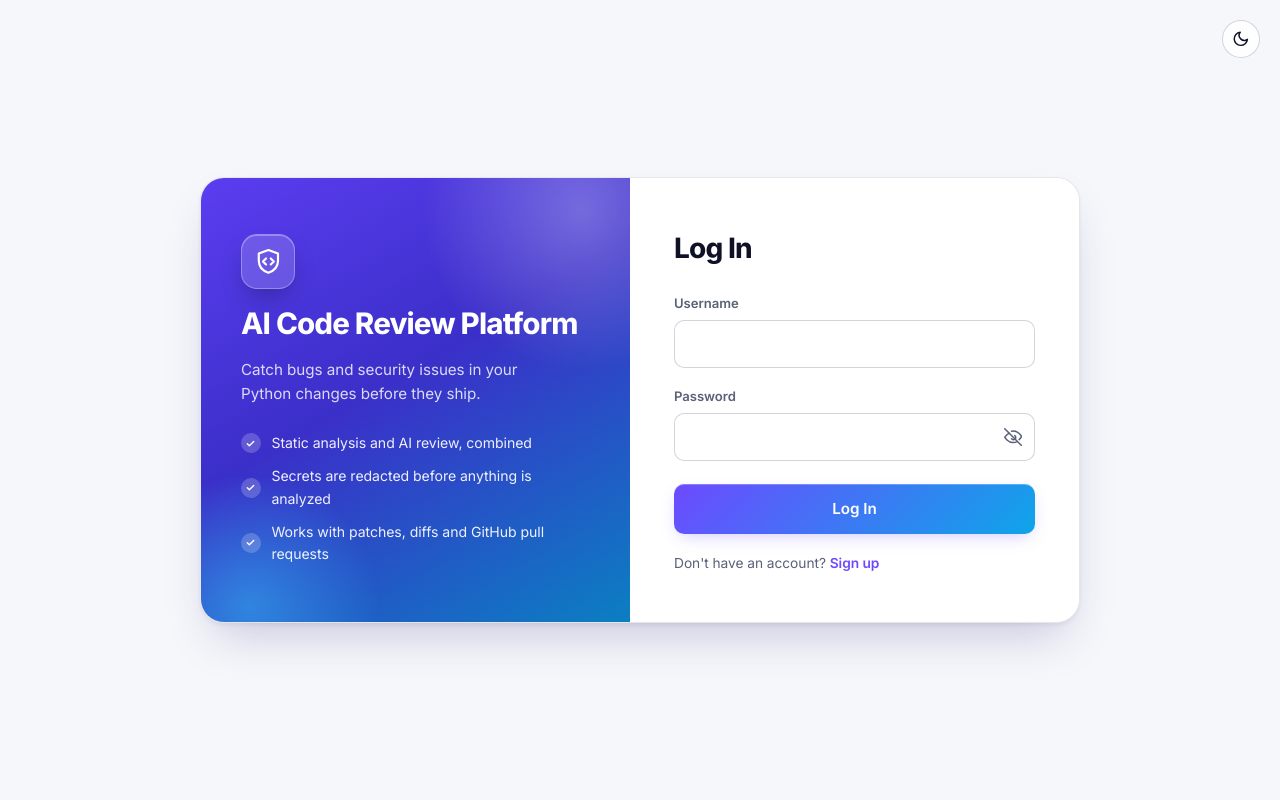
it: Login page › logs in, stores the session and lands on the dashboard
Type "alice" into the field labelled "Username" at (854, 344), box [674,320,1035,368]
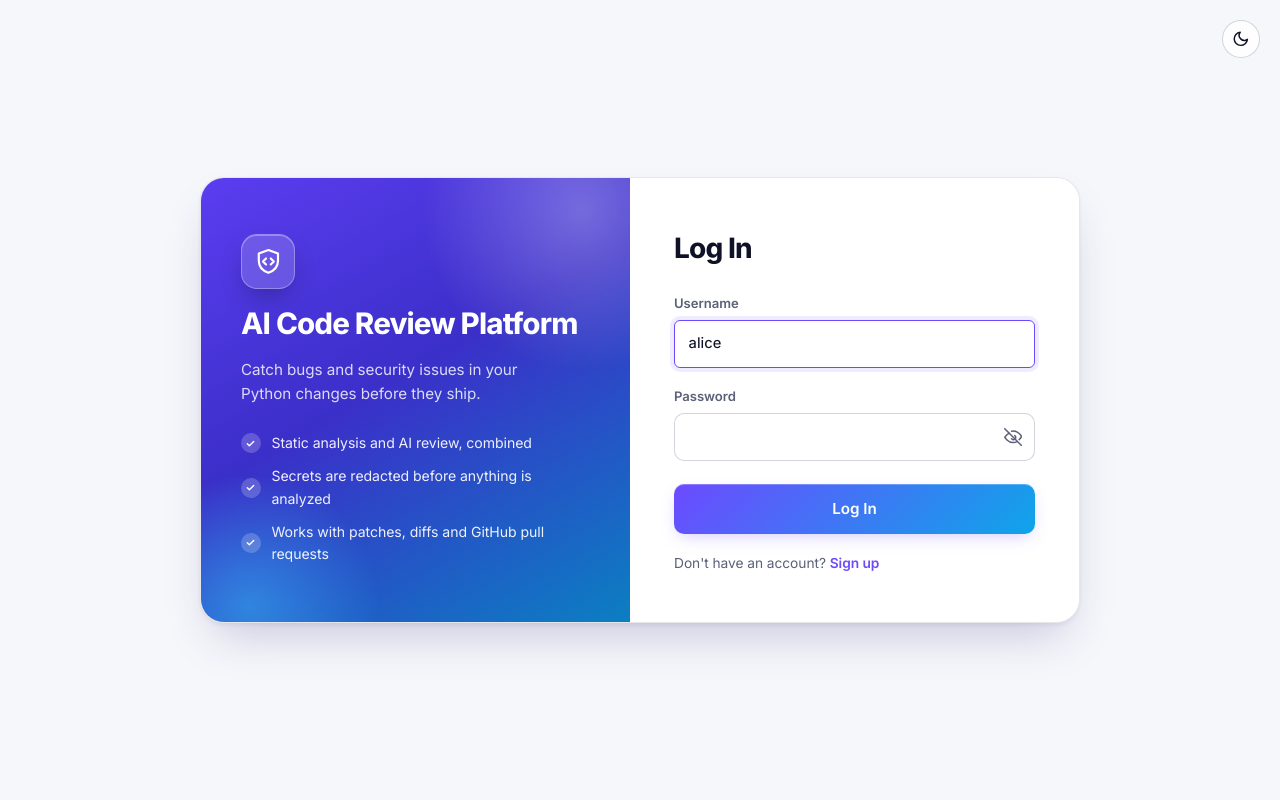
Type "password123" into the password field labelled "Password" at (854, 437), box [674,413,1035,461]
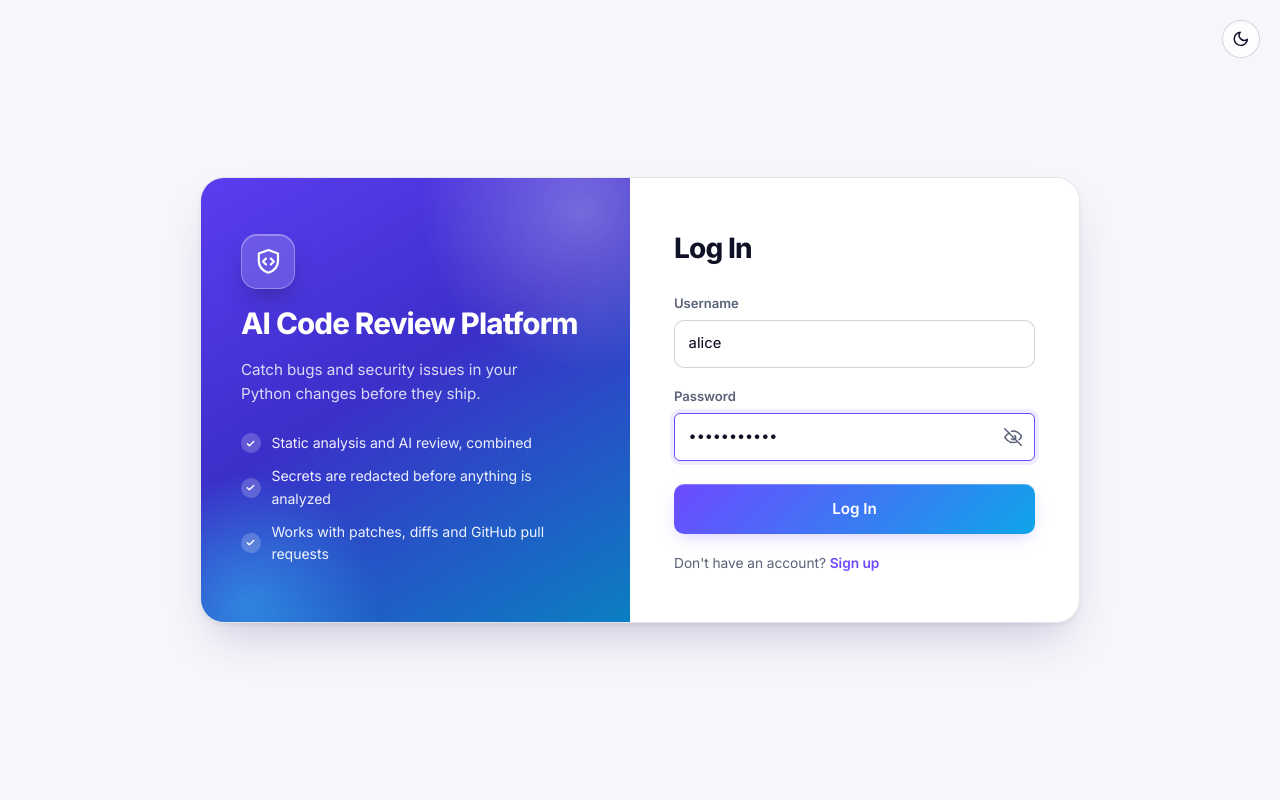
Click the button "Log In" at (854, 509), box [674,484,1035,534]
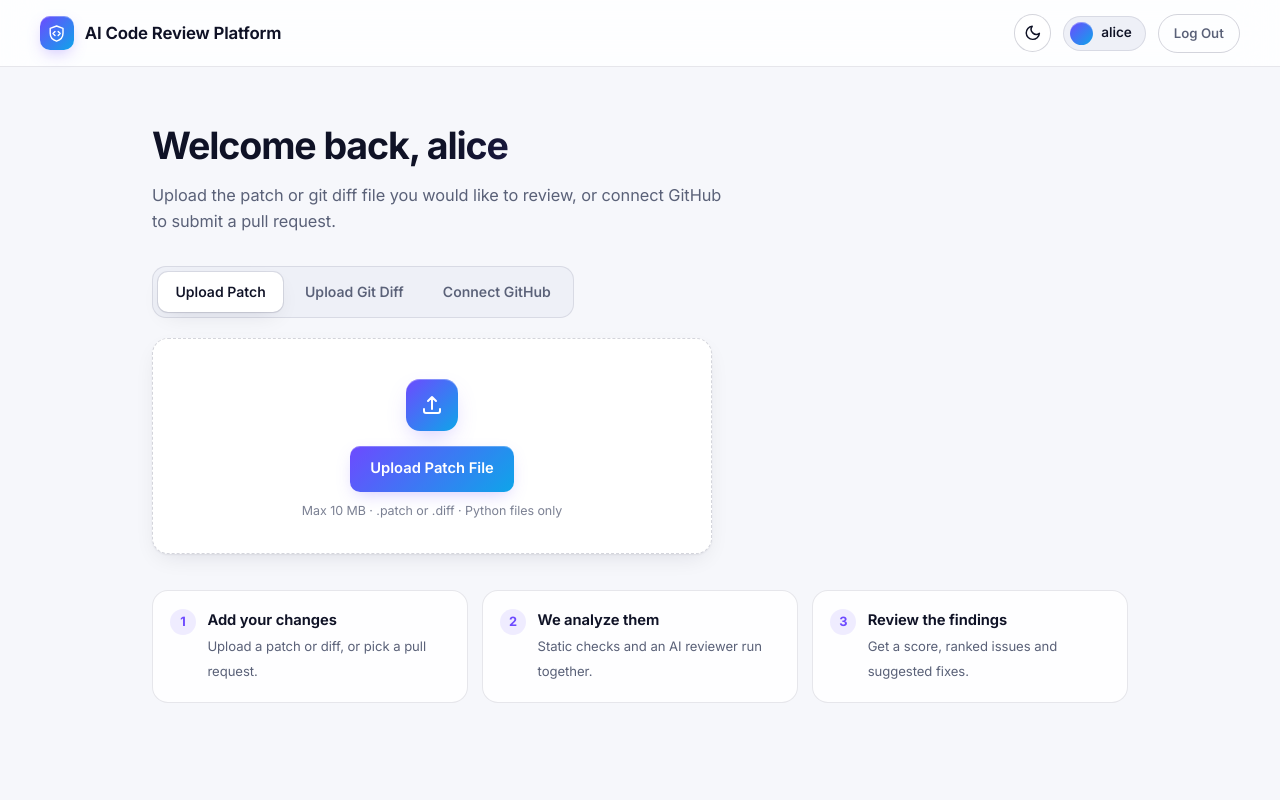
Check: the heading "Welcome back, alice" is shown, box [152,123,1128,172]
